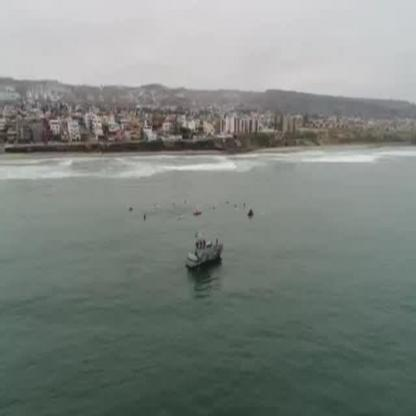Boat: (186, 234, 223, 272)
